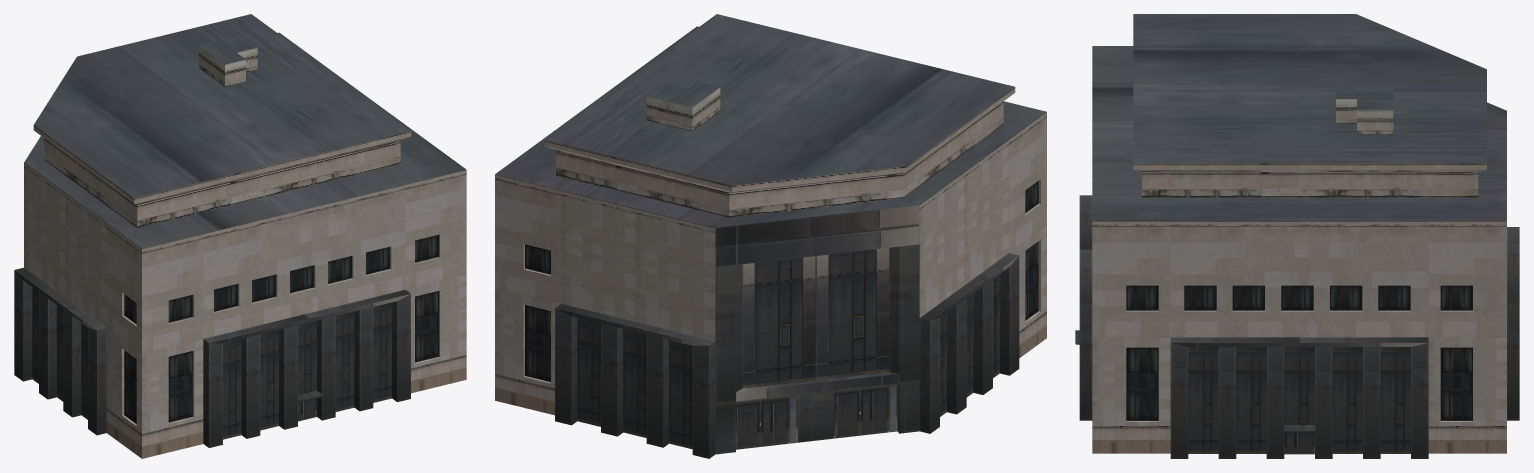
File: public1.glb
3 renders of one model, left to right at view 1: azimuth 30°, elevation 25°; view 2: azimuth 150°, elevation 25°; view 3: azimuth 270°, elevation 25°, orthographic. The views are drawn at different scales.
Parts seen in each view (by area): view 1: public1; view 2: public1; view 3: public1.
Part boxes in pixels (bbox=[...]): public1: bbox=[14, 14, 466, 458]; public1: bbox=[495, 14, 1046, 458]; public1: bbox=[1075, 14, 1519, 458].
Size of the model in its own units: 35.18 by 25.78 by 35.18.
2 materials, 2 textured.
